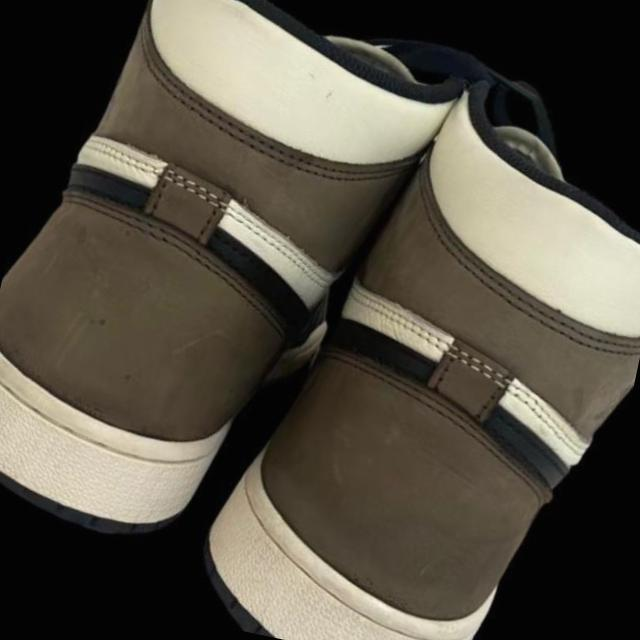nike_original_jordan: (0, 0, 495, 632), (143, 17, 640, 640)
